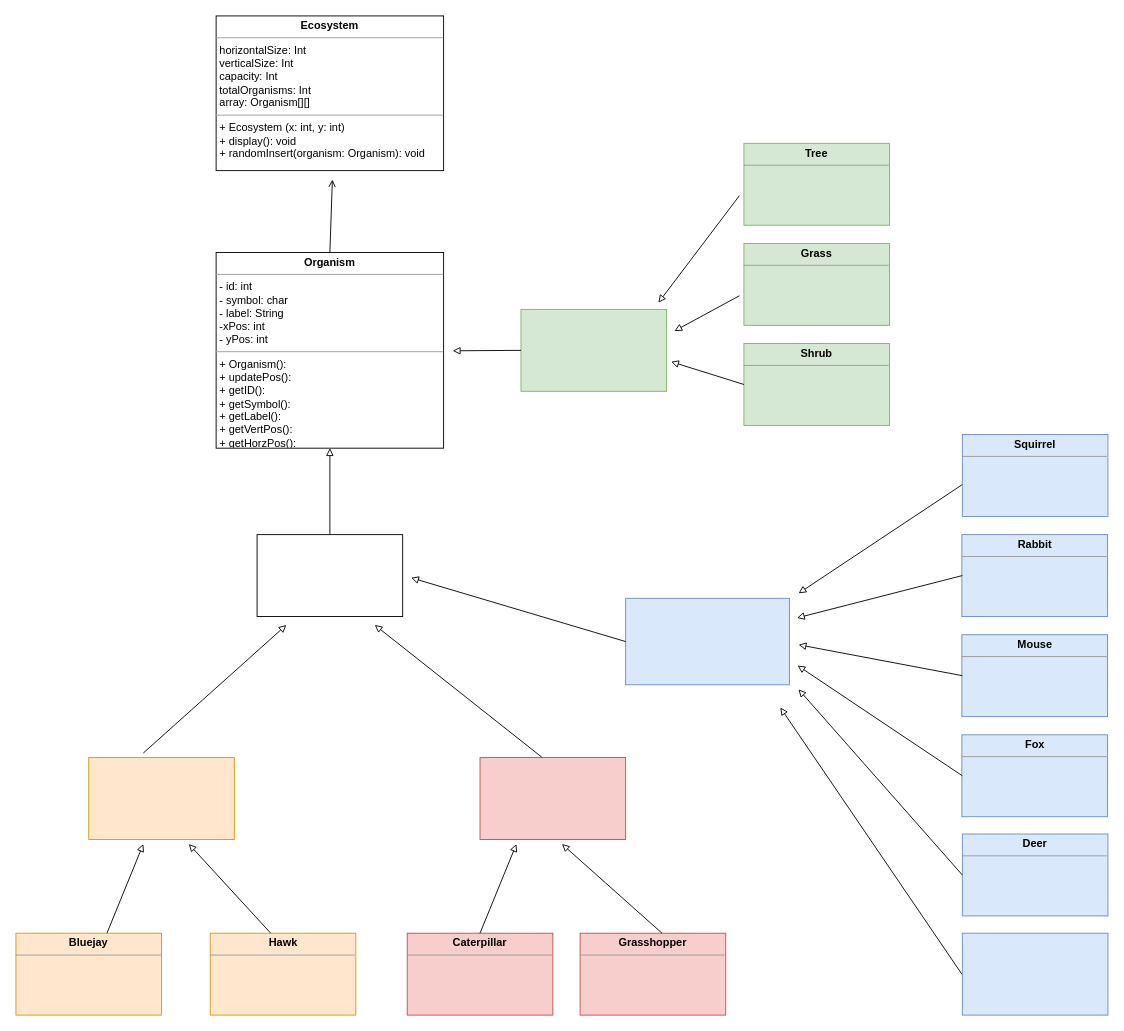
The diagram is 1124 pixels wide and 1031 high, and some of its shapes have lost their labels. Each missing label, with the centre of its shape:
Animals - isCarnivore: boolean - isHerbivore: boolean: the point at 329,575
Bird: the point at 161,798
Insect: the point at 552,798
Mammal: the point at 707,641
Plant: the point at 593,349
Wolf: the point at 1034,973
